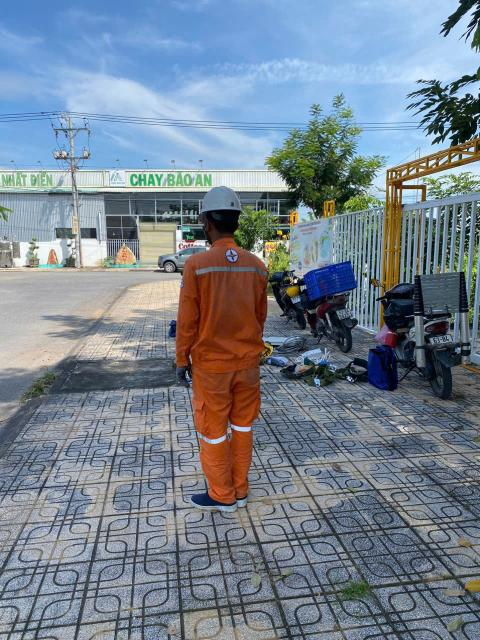gloves: (170, 360, 193, 393)
helmet: (195, 186, 247, 223)
shoes: (183, 483, 236, 517)
